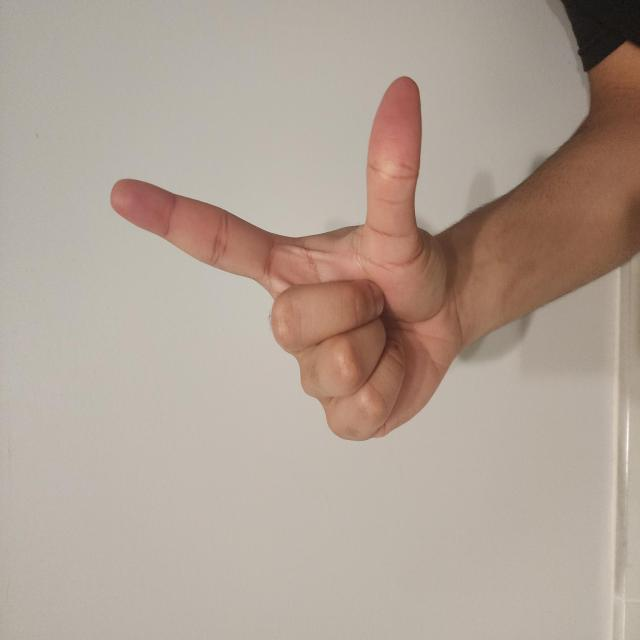L: (142, 138, 426, 624)
